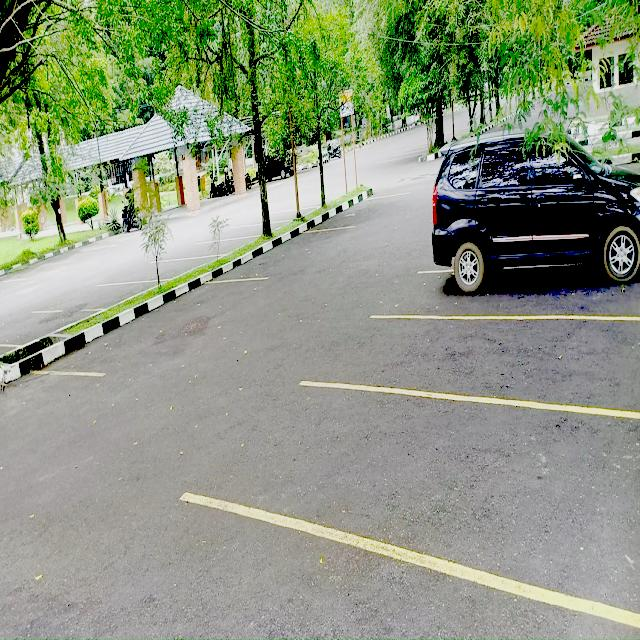empty: (301, 396, 640, 589), (373, 312, 640, 412), (38, 280, 269, 365), (253, 227, 334, 281), (83, 282, 135, 314), (143, 257, 195, 283), (193, 239, 247, 258)
occupied: (428, 191, 640, 320)
